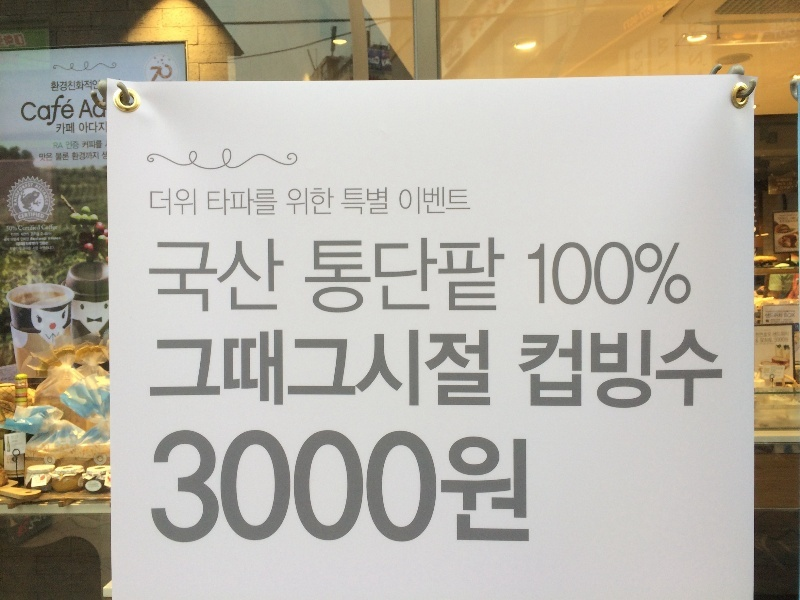text: (513, 430, 529, 549), (161, 430, 176, 549), (177, 430, 192, 549), (193, 430, 208, 549), (209, 430, 224, 549), (225, 430, 240, 549), (241, 430, 256, 549), (257, 430, 272, 549), (273, 430, 288, 549), (289, 430, 304, 549), (305, 430, 320, 549), (321, 430, 336, 549), (337, 430, 352, 549), (353, 430, 368, 549), (369, 430, 384, 549), (385, 430, 400, 549), (401, 430, 416, 549), (417, 430, 432, 549), (433, 430, 448, 549), (449, 430, 464, 549), (465, 430, 480, 549), (481, 430, 496, 549), (497, 430, 512, 549), (529, 330, 544, 410), (545, 330, 560, 410), (561, 330, 576, 410), (577, 330, 592, 410), (593, 330, 608, 410), (609, 330, 624, 410), (625, 330, 640, 410), (641, 330, 656, 410), (657, 330, 672, 410), (673, 330, 688, 410), (689, 330, 704, 410), (705, 330, 720, 410), (161, 330, 176, 409), (177, 330, 192, 409), (193, 330, 208, 409), (209, 330, 224, 409), (225, 330, 240, 409), (241, 330, 256, 409), (257, 330, 272, 409), (273, 330, 288, 409), (289, 330, 304, 409), (305, 330, 320, 409), (321, 330, 336, 409), (337, 330, 352, 409), (353, 330, 368, 409), (369, 330, 384, 409), (385, 330, 400, 409), (401, 330, 416, 409), (417, 330, 432, 409), (433, 330, 448, 409), (449, 330, 464, 409), (465, 330, 480, 409), (305, 237, 320, 316), (321, 237, 336, 316), (337, 237, 352, 316), (353, 237, 368, 316), (369, 237, 384, 316), (385, 237, 400, 316), (401, 237, 416, 316), (417, 237, 432, 316), (433, 237, 448, 316), (449, 237, 464, 316), (465, 237, 480, 316), (481, 237, 496, 316), (161, 238, 176, 313), (177, 238, 192, 313), (193, 238, 208, 313), (209, 238, 224, 313), (225, 238, 240, 313), (241, 238, 256, 313), (257, 238, 272, 313), (529, 242, 544, 310), (545, 242, 560, 310), (561, 242, 576, 310), (577, 242, 592, 310), (593, 242, 608, 310), (609, 242, 624, 310), (625, 242, 640, 310), (641, 242, 656, 310), (657, 242, 672, 310), (673, 242, 688, 310), (147, 238, 160, 313), (152, 430, 160, 549), (481, 330, 493, 409), (273, 238, 284, 313), (497, 237, 506, 316), (17, 170, 32, 208), (521, 330, 528, 410), (33, 94, 48, 128), (49, 94, 64, 128), (289, 187, 304, 216), (305, 187, 320, 216), (209, 188, 224, 217), (225, 188, 240, 217), (241, 188, 256, 217), (257, 188, 272, 217), (161, 188, 176, 217), (177, 188, 192, 217), (401, 187, 416, 215), (417, 187, 432, 215), (433, 187, 448, 215), (449, 187, 464, 215), (353, 187, 368, 215), (369, 187, 384, 215), (689, 242, 695, 310), (20, 94, 32, 128), (321, 187, 335, 216), (65, 94, 76, 128), (339, 187, 352, 215), (721, 330, 725, 410), (150, 188, 160, 217), (39, 180, 48, 207), (84, 99, 96, 118), (369, 55, 384, 69), (525, 242, 528, 310), (465, 187, 472, 215), (81, 121, 96, 134), (1, 34, 16, 47), (65, 80, 80, 92), (769, 366, 784, 378), (785, 177, 796, 192), (158, 330, 160, 409), (51, 80, 64, 92), (81, 151, 96, 161), (273, 188, 278, 217), (49, 180, 54, 207), (97, 103, 106, 118), (81, 80, 92, 92), (97, 121, 107, 134), (65, 122, 75, 135), (82, 140, 96, 149), (66, 141, 80, 150), (385, 55, 394, 69), (17, 212, 32, 220), (769, 336, 784, 344), (776, 177, 784, 192), (17, 34, 26, 47), (785, 214, 798, 223), (33, 212, 46, 220), (56, 122, 64, 135), (755, 336, 768, 344), (17, 231, 32, 237), (33, 231, 48, 237), (103, 151, 112, 161), (71, 151, 80, 161), (769, 332, 784, 338), (193, 188, 196, 217), (385, 187, 388, 215), (18, 225, 32, 231), (769, 313, 783, 319), (55, 152, 64, 161), (39, 153, 48, 162), (33, 170, 35, 208), (17, 246, 32, 251), (33, 246, 48, 251), (17, 237, 32, 242), (33, 237, 48, 242), (369, 75, 384, 80), (756, 332, 768, 338), (770, 319, 784, 324), (49, 237, 62, 242), (33, 242, 49, 246), (49, 224, 58, 231), (777, 214, 784, 223), (17, 242, 32, 246), (4, 237, 16, 242), (54, 143, 64, 149), (286, 187, 288, 216), (785, 313, 796, 318), (6, 226, 16, 231), (785, 319, 795, 324), (33, 225, 41, 231), (764, 366, 768, 378), (65, 152, 70, 161), (97, 140, 102, 149), (93, 103, 96, 118), (42, 224, 48, 231), (92, 80, 96, 90), (49, 153, 53, 162), (785, 336, 789, 344), (10, 246, 16, 251), (49, 246, 55, 251), (11, 231, 16, 237), (97, 80, 100, 90), (769, 311, 784, 313), (207, 188, 208, 217), (399, 187, 400, 215), (49, 231, 53, 237), (785, 332, 789, 338), (785, 311, 797, 313), (97, 151, 99, 161), (79, 121, 80, 134), (766, 313, 768, 319), (17, 226, 18, 231), (766, 311, 768, 313)
